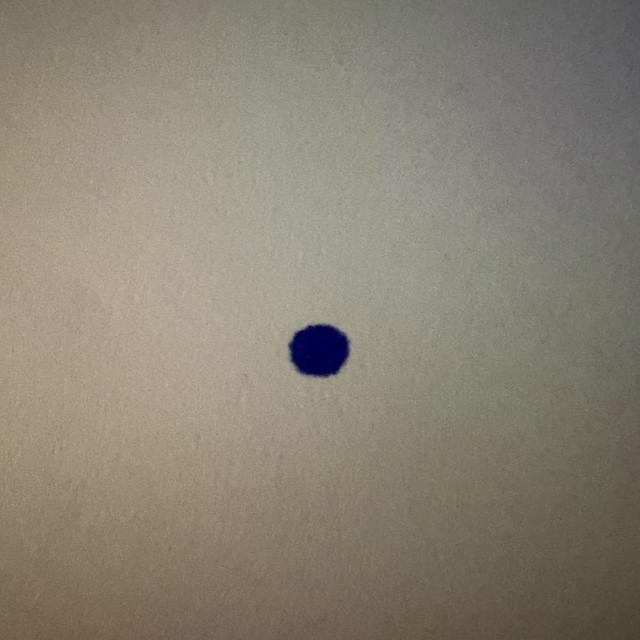Circle: (285, 320, 352, 380)
